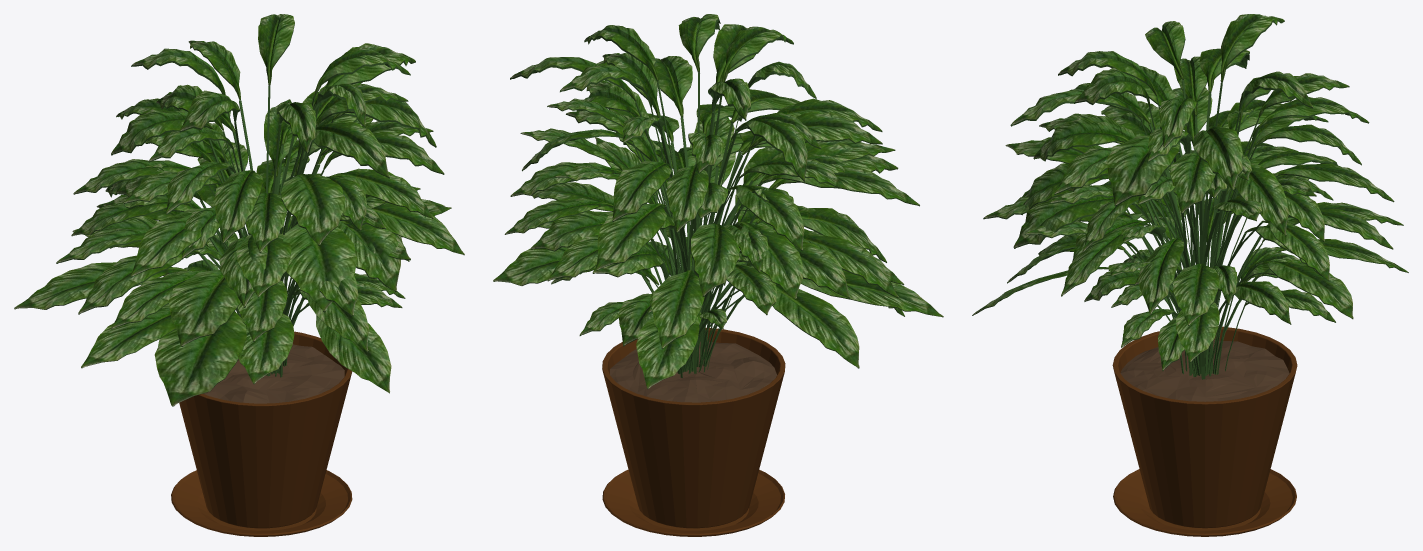
Rendered from spatifilum.obj.
The picture shows the model from 3 angles, left to right: view 1: azimuth 30°, elevation 25°; view 2: azimuth 150°, elevation 25°; view 3: azimuth 270°, elevation 25°; orthographic projection.
Parts seen in each view (by area): view 1: Flower_Plane.211, Bowl_Circle, Dirt_Circle.002; view 2: Flower_Plane.211, Bowl_Circle, Dirt_Circle.002; view 3: Flower_Plane.211, Bowl_Circle, Dirt_Circle.002.
Part boxes in pixels (left/top/right/bottom): Flower_Plane.211: left=14, top=14, right=464, bottom=406; Bowl_Circle: left=171, top=331, right=352, bottom=536; Dirt_Circle.002: left=203, top=344, right=344, bottom=403; Flower_Plane.211: left=493, top=14, right=943, bottom=388; Bowl_Circle: left=602, top=327, right=785, bottom=536; Dirt_Circle.002: left=610, top=341, right=777, bottom=402; Flower_Plane.211: left=972, top=14, right=1408, bottom=379; Bowl_Circle: left=1112, top=326, right=1297, bottom=536; Dirt_Circle.002: left=1120, top=339, right=1289, bottom=401.
Bounding box in the file's own units: 79.76 × 87.47 × 74.9.
Materials: 4 (1 with a texture image).
